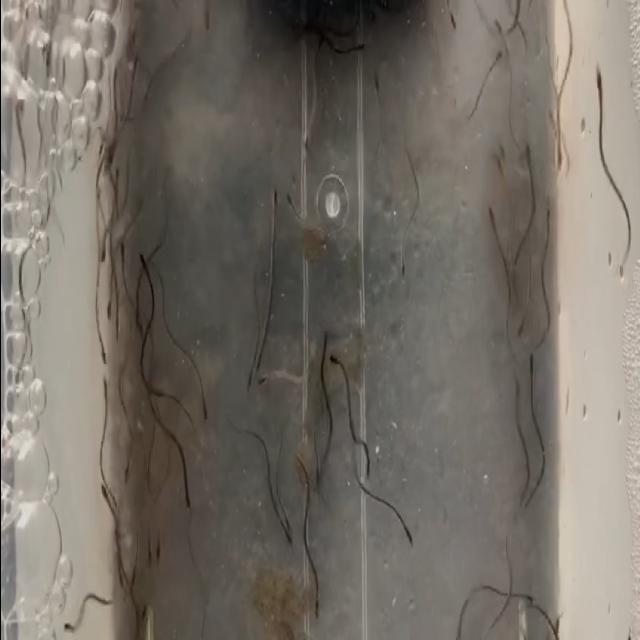active_glass_eel: (594, 58, 612, 115), (512, 300, 530, 344), (488, 35, 504, 79), (298, 118, 314, 160), (484, 205, 502, 242), (546, 134, 565, 168), (9, 366, 25, 406), (544, 103, 562, 138), (542, 182, 554, 234), (198, 382, 210, 434), (102, 281, 116, 325), (120, 441, 134, 485), (519, 585, 539, 614), (442, 5, 459, 39), (312, 588, 326, 628), (369, 65, 383, 105), (520, 140, 534, 178), (198, 0, 216, 29), (491, 150, 506, 182), (492, 14, 508, 44), (178, 476, 193, 508), (397, 521, 415, 547), (144, 528, 155, 570), (62, 619, 84, 640), (496, 135, 511, 165), (256, 368, 272, 396), (326, 354, 346, 376), (99, 228, 111, 264), (352, 32, 368, 59), (18, 72, 28, 114), (526, 348, 538, 382), (98, 478, 110, 512), (136, 249, 150, 277), (96, 338, 109, 368), (278, 525, 294, 548), (400, 245, 408, 288), (100, 376, 109, 414), (243, 368, 255, 396), (152, 536, 164, 564), (270, 184, 280, 213), (282, 507, 292, 532), (286, 190, 296, 212)
